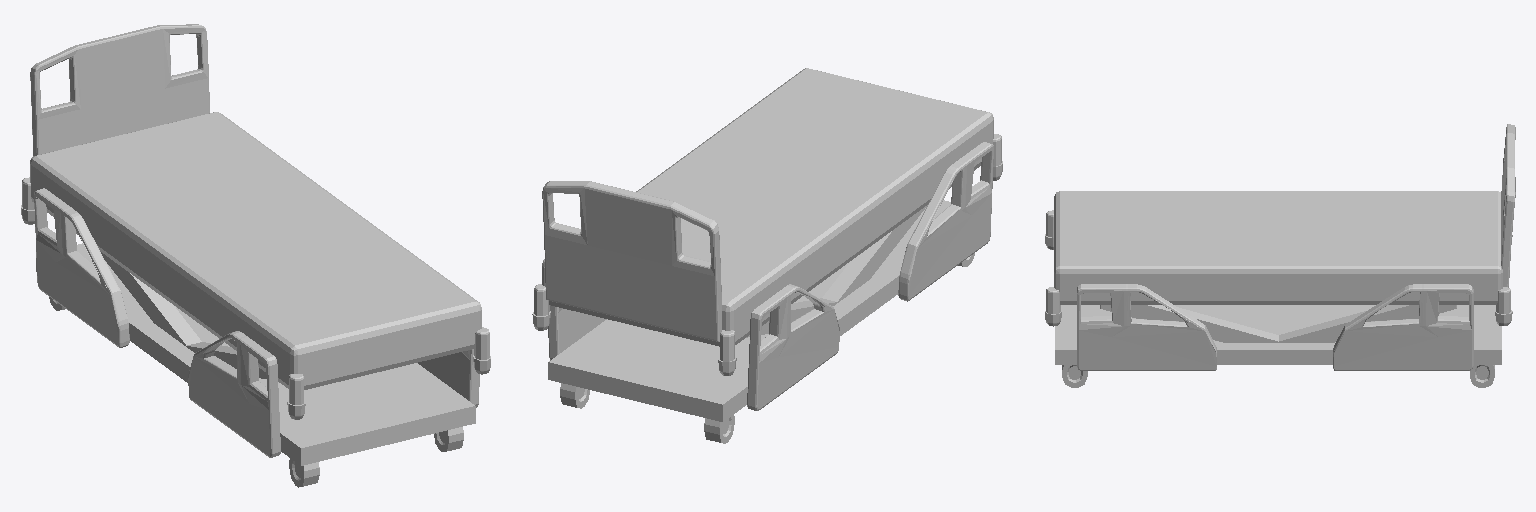
The robot description file, URDF, robot "hospital_bed":
<?xml version="1.0" ?>
<robot name="hospital_bed">
    <link name="base_link">
        <inertial>
            <mass value="5" />
            <origin xyz="0 0 0" rpy="0 0 0" />
            <inertia ixx="0.070968" ixy="-0.009135" ixz="-0.000056" iyy="0.048896" iyz="0.000007" izz="0.086415" />
        </inertial>
        <visual>
            <geometry>
                <mesh filename="hospital_bed.obj" scale="0.7 0.8 1"/>
            </geometry>
            <material name="aluminium">
                <color rgba="0.827450980392156 0.827450980392156 0.827450980392156 1.0"/>
            </material>
        </visual>
        <collision>
            <geometry>
                <mesh filename="hospital_bed_simplified.obj" scale="0.7 0.8 1"/>
            </geometry>
        </collision>
    </link>
</robot>

--- What the picture shows (computed from the rendered views, not written in the file) ---
Views: 3 orthographic renders of the robot side by side, from view 1: azimuth 30°, elevation 25°; view 2: azimuth 150°, elevation 25°; view 3: azimuth 270°, elevation 25°.
Model hospital_bed with 1 links and 0 joints (none), rooted at base_link, posed all joints at 0.
Visible links, largest first — view 1: base_link; view 2: base_link; view 3: base_link.
Boxes of the visible links, x1,y1,x2,y2 form: base_link: (21, 24, 490, 487); base_link: (532, 68, 1002, 443); base_link: (1045, 124, 1515, 387).
Size in the robot's own frame: 1.12 by 2.51 by 1.21 metres.
1 mesh visuals loaded from 1 distinct referenced files (1 OBJ).
